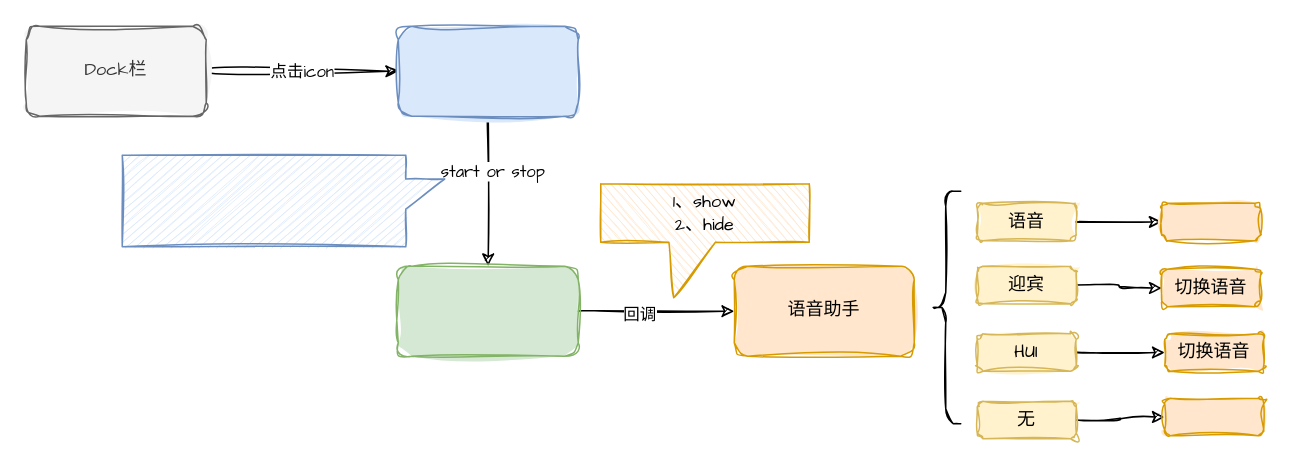
The diagram is 1290 pixels wide and 465 high, and some of its shapes have lost their labels. Each missing label, with the box of its shape:
判断是否wake，如果是，就stop；如果否，就start: (121, 154, 445, 247)
天琴助手: (397, 265, 578, 356)
显示语音: (1163, 397, 1264, 436)
语音适配层: (397, 25, 578, 116)
隐藏语音: (1160, 202, 1261, 241)
